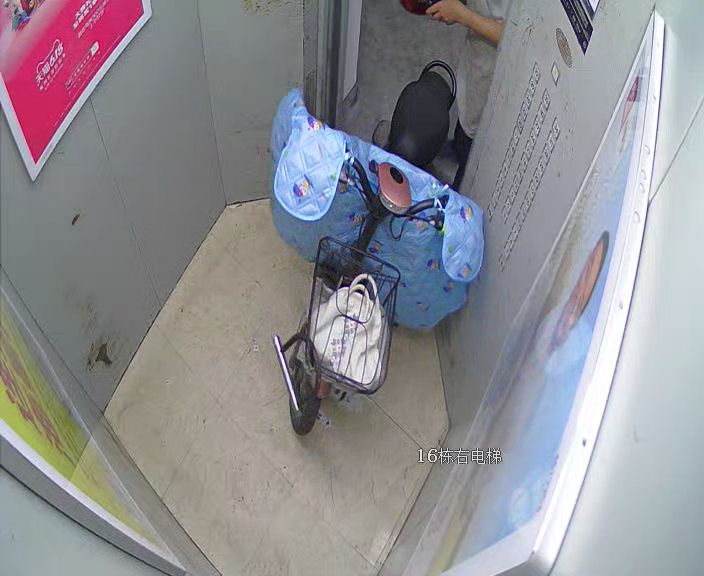Electric-bicycle: (276, 57, 481, 429)
